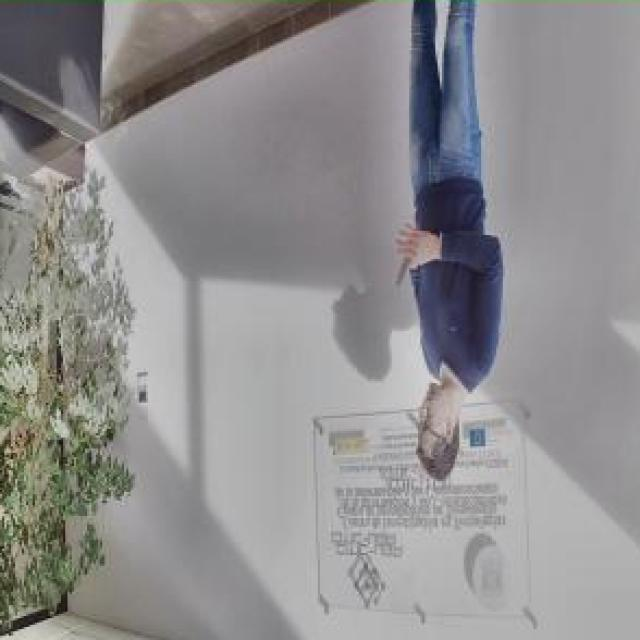knife: (394, 238, 418, 294)
